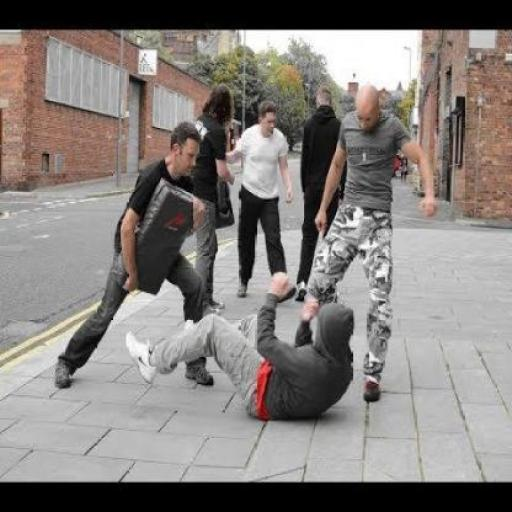Fighting: (51, 81, 436, 430)
